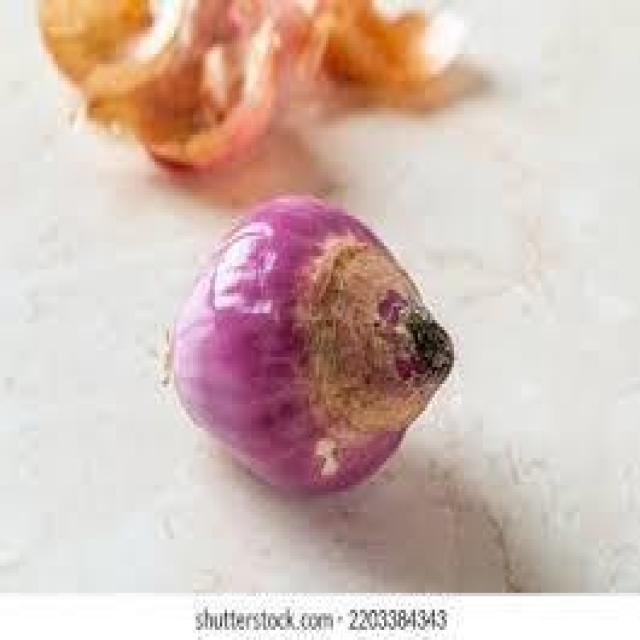Onion: (152, 192, 461, 505), (32, 0, 490, 172)
